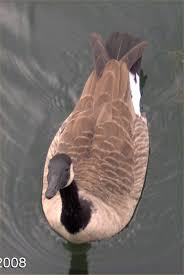goose: (30, 28, 153, 256)
